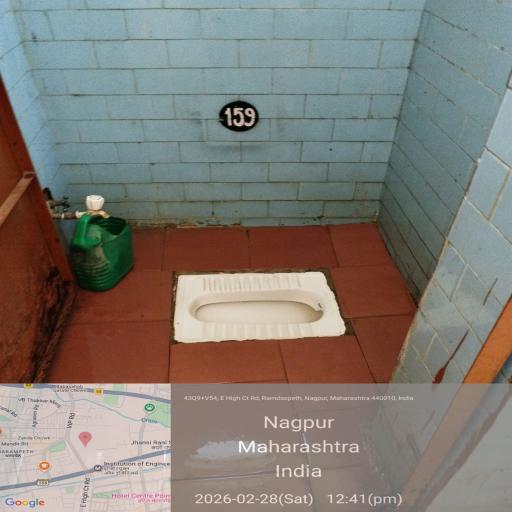clean_indian: (150, 258, 364, 357)
partial_dirty_floor: (91, 38, 511, 258), (29, 355, 512, 495)
